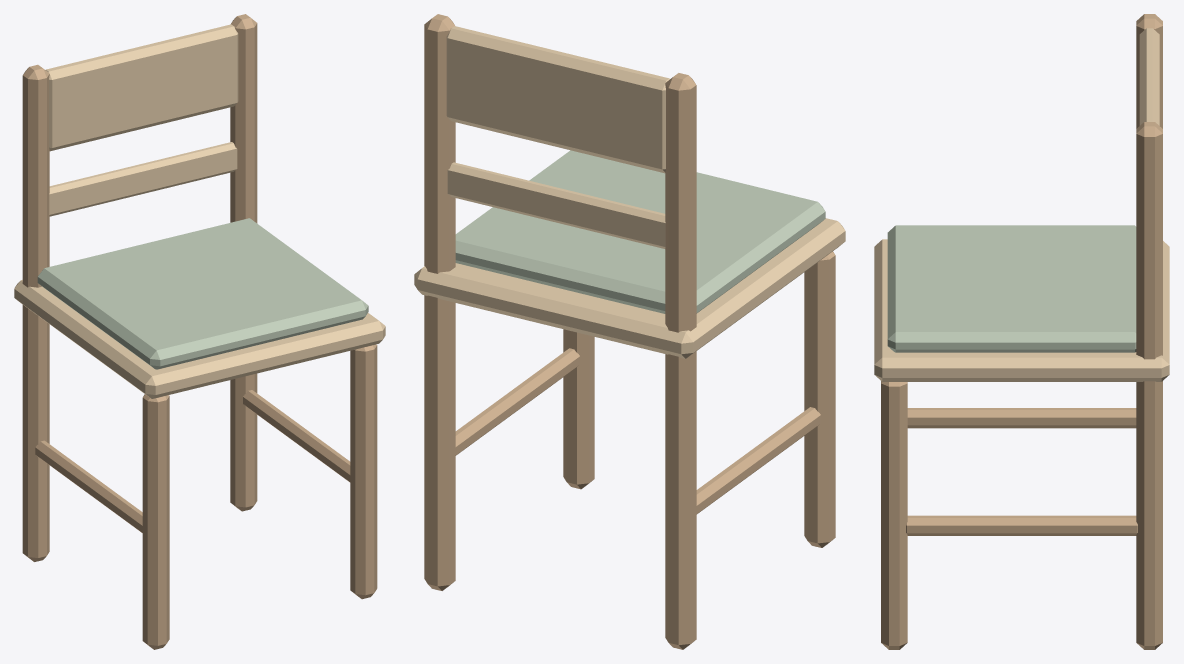
The model's file is DiningChair.glb.
3 renders of one model, left to right at view 1: azimuth 30°, elevation 25°; view 2: azimuth 150°, elevation 25°; view 3: azimuth 270°, elevation 25°, orthographic. The views are drawn at different scales.
Parts seen in each view (by area): view 1: DiningChair_Body; view 2: DiningChair_Body; view 3: DiningChair_Body.
Boxes of the visible parts, box(x1,y1,x2,y2) form: DiningChair_Body: box(14, 14, 385, 649); DiningChair_Body: box(414, 14, 845, 649); DiningChair_Body: box(874, 14, 1169, 649).
Size of the model in its own units: 0.44 by 0.86 by 0.44.
